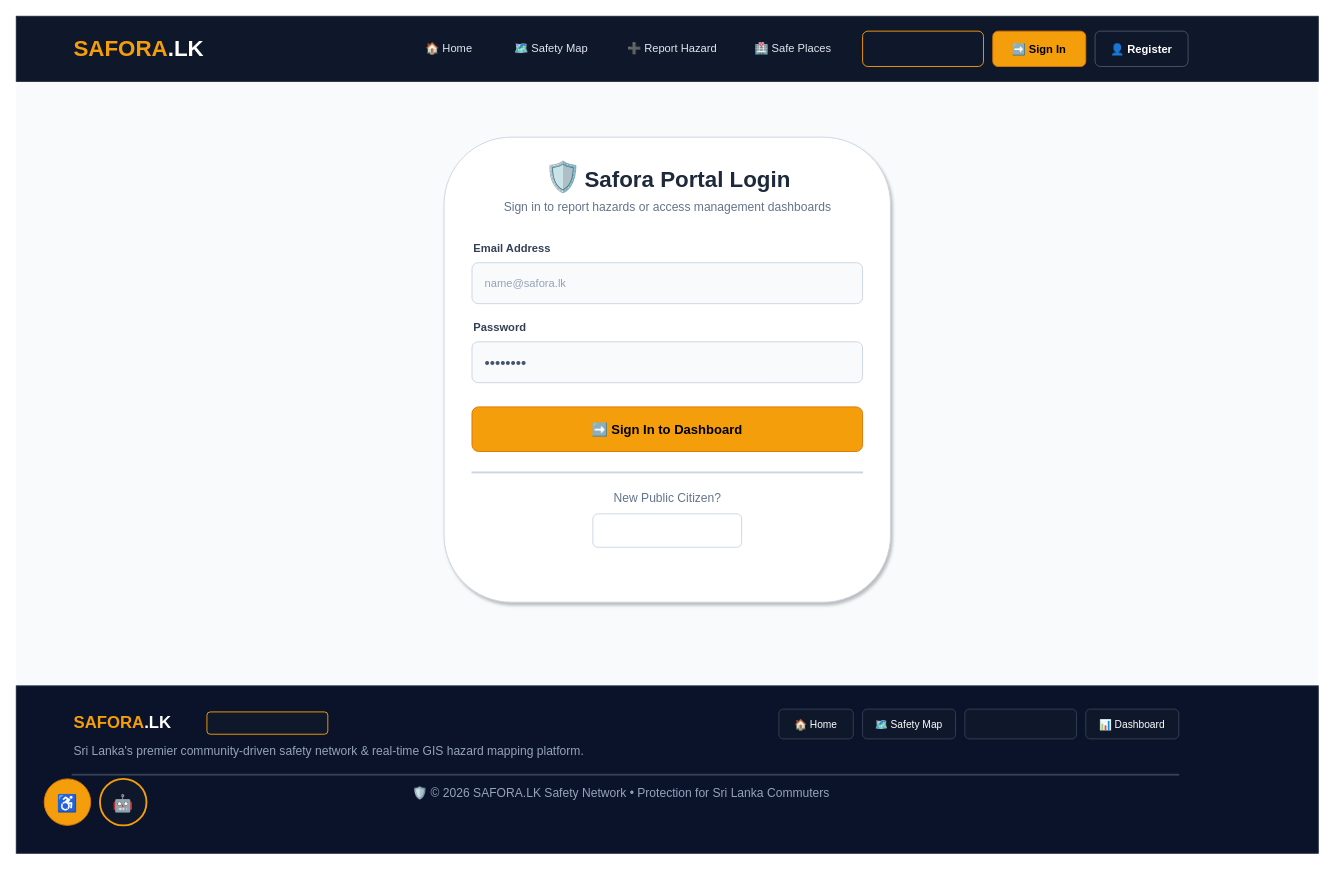
Some shapes in this 1335 by 870 pixel diagram are drawn without their labels. The shapes that lost their labels are listed below. From the top down, each one's centre as x and y in pixels, then its label:
[922,48]: 📞 SOS Contacts
[667,530]: Create Public Account
[267,722]: (((•))) 24/7 AI SAFETY
[1020,723]: ⚠️ Report Hazard
